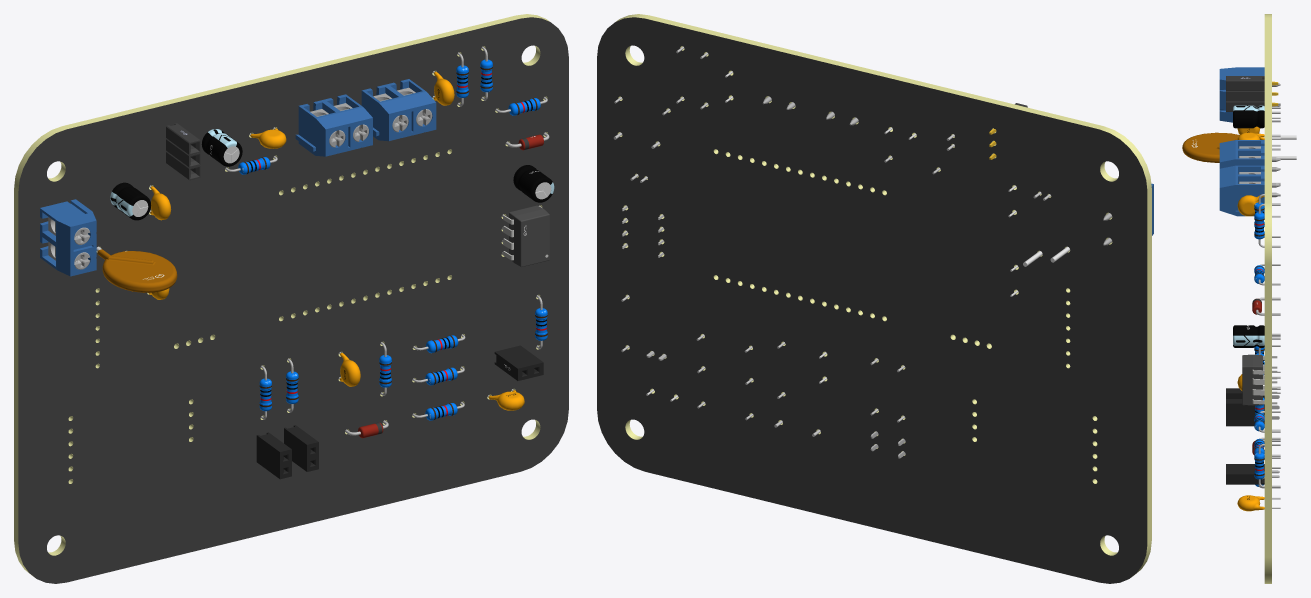
Rendered from pcb.glb.
3 renders of one model, left to right at view 1: azimuth 30°, elevation 25°; view 2: azimuth 150°, elevation 25°; view 3: azimuth 270°, elevation 25°, orthographic. The views are drawn at different scales.
Visible parts, largest first — view 1: =>[0:1:1:2], =>[0:1:1:41], =>[0:1:1:44], =>[0:1:1:43], =>[0:1:1:35], =>[0:1:1:37], =>[0:1:1:39], =>[0:1:1:11], =>[0:1:1:12], =>[0:1:1:9], =>[0:1:1:47], =>[0:1:1:48] (+1 smaller); view 2: =>[0:1:1:2]; view 3: =>[0:1:1:2], =>[0:1:1:43], =>[0:1:1:35], =>[0:1:1:37], =>[0:1:1:39], =>[0:1:1:41], =>[0:1:1:44], =>[0:1:1:9], =>[0:1:1:47], =>[0:1:1:48], =>[0:1:1:12], =>[0:1:1:27] (+10 smaller).
Part boxes in pixels (x1,y1,x2,y2): =>[0:1:1:2]: [14, 14, 568, 583]; =>[0:1:1:41]: [295, 94, 372, 156]; =>[0:1:1:44]: [40, 199, 96, 276]; =>[0:1:1:43]: [361, 79, 436, 141]; =>[0:1:1:35]: [96, 246, 177, 292]; =>[0:1:1:37]: [501, 205, 549, 267]; =>[0:1:1:39]: [166, 123, 200, 180]; =>[0:1:1:11]: [256, 432, 291, 479]; =>[0:1:1:12]: [494, 345, 543, 380]; =>[0:1:1:9]: [284, 425, 318, 471]; =>[0:1:1:47]: [201, 129, 242, 166]; =>[0:1:1:48]: [513, 165, 554, 202]; =>[0:1:1:2]: [597, 14, 1151, 583]; =>[0:1:1:2]: [1264, 14, 1271, 583]; =>[0:1:1:43]: [1219, 165, 1280, 216]; =>[0:1:1:35]: [1182, 132, 1296, 162]; =>[0:1:1:37]: [1242, 354, 1277, 405]; =>[0:1:1:39]: [1226, 76, 1278, 111]; =>[0:1:1:41]: [1219, 140, 1280, 171]; =>[0:1:1:44]: [1219, 67, 1280, 122]; =>[0:1:1:9]: [1226, 399, 1279, 426]; =>[0:1:1:47]: [1233, 105, 1280, 128]; =>[0:1:1:48]: [1233, 325, 1280, 347]; =>[0:1:1:12]: [1226, 464, 1279, 484]; =>[0:1:1:27]: [1237, 495, 1280, 511].
Size of the model in its own units: 0.1162 by 0.0914 by 0.0251.
